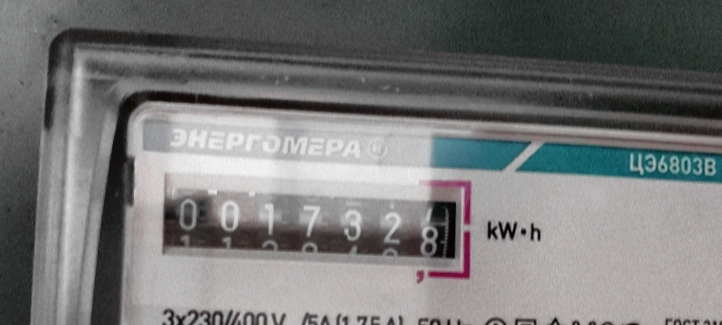0: (178, 195, 201, 232), (219, 198, 241, 233)
1: (262, 199, 278, 236)
2: (380, 210, 403, 246)
3: (341, 207, 365, 243)
7: (298, 201, 324, 239)
8: (418, 222, 439, 258)
screen: (152, 169, 478, 282)
